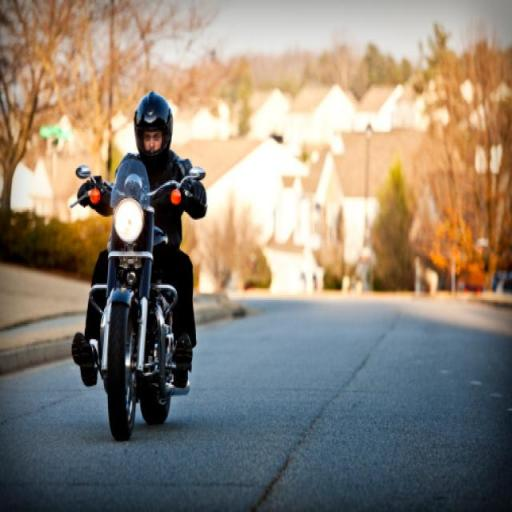Helmet: (123, 92, 177, 166)
Motor: (74, 192, 196, 433)
